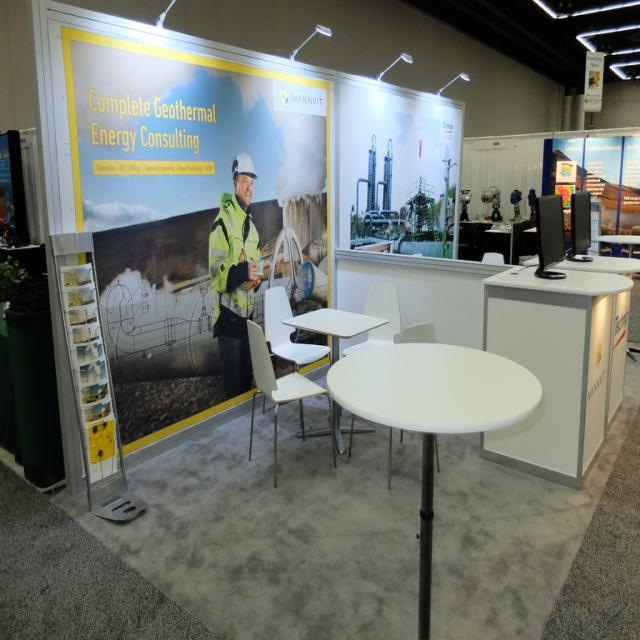chair: (246, 321, 340, 487), (264, 286, 330, 372), (396, 323, 436, 344)
desk: (464, 231, 640, 490)
person: (209, 153, 264, 401)
